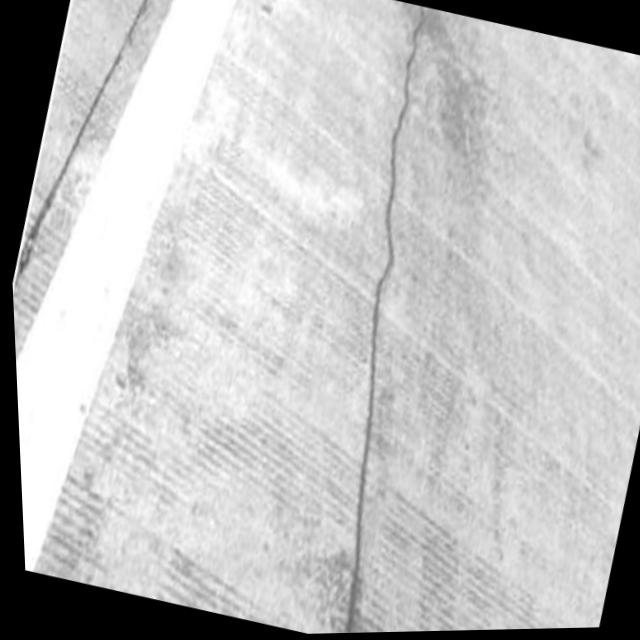Crack: (246, 1, 523, 636)
